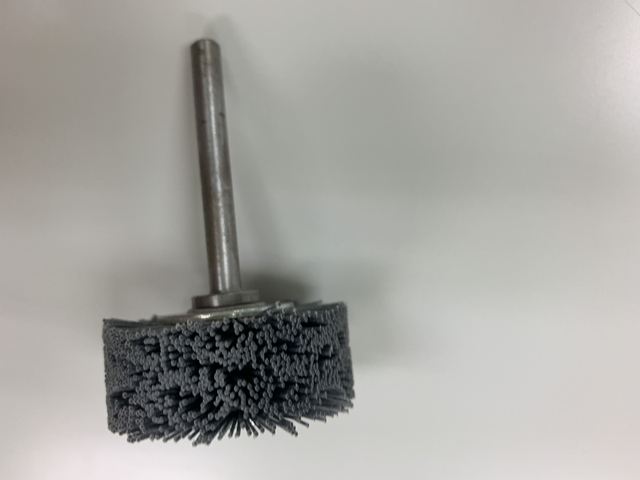Wheel Brush: (104, 32, 369, 446), (88, 177, 384, 454)
